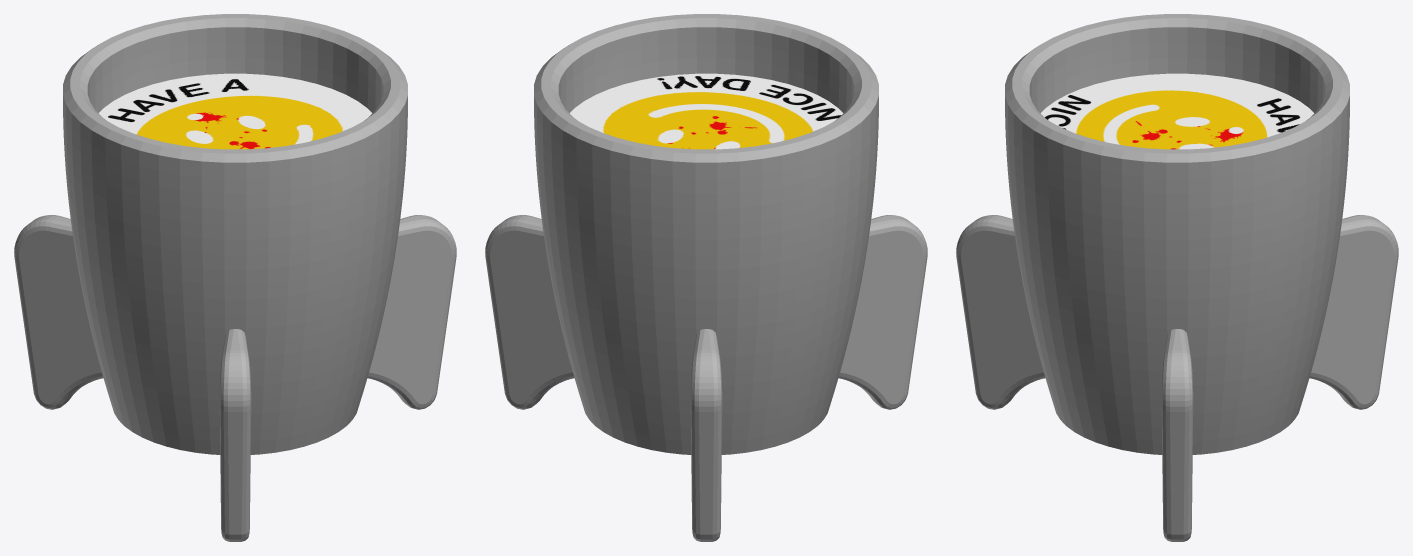
3 views of the same model, side by side, from view 1: azimuth 30°, elevation 25°; view 2: azimuth 150°, elevation 25°; view 3: azimuth 270°, elevation 25° (orthographic).
Parts seen in each view (by area): view 1: mesh2_mesh2-geometry, mesh1_mesh1-geometry; view 2: mesh2_mesh2-geometry, mesh1_mesh1-geometry; view 3: mesh2_mesh2-geometry, mesh1_mesh1-geometry.
Part boxes in pixels (x1,y1,x2,y2): mesh2_mesh2-geometry: (14, 14, 456, 541); mesh1_mesh1-geometry: (98, 73, 372, 149); mesh2_mesh2-geometry: (485, 14, 927, 541); mesh1_mesh1-geometry: (569, 73, 843, 149); mesh2_mesh2-geometry: (956, 14, 1398, 541); mesh1_mesh1-geometry: (1040, 73, 1314, 149).
Size of the model in its own units: 0.5758 by 0.5522 by 0.6029.
